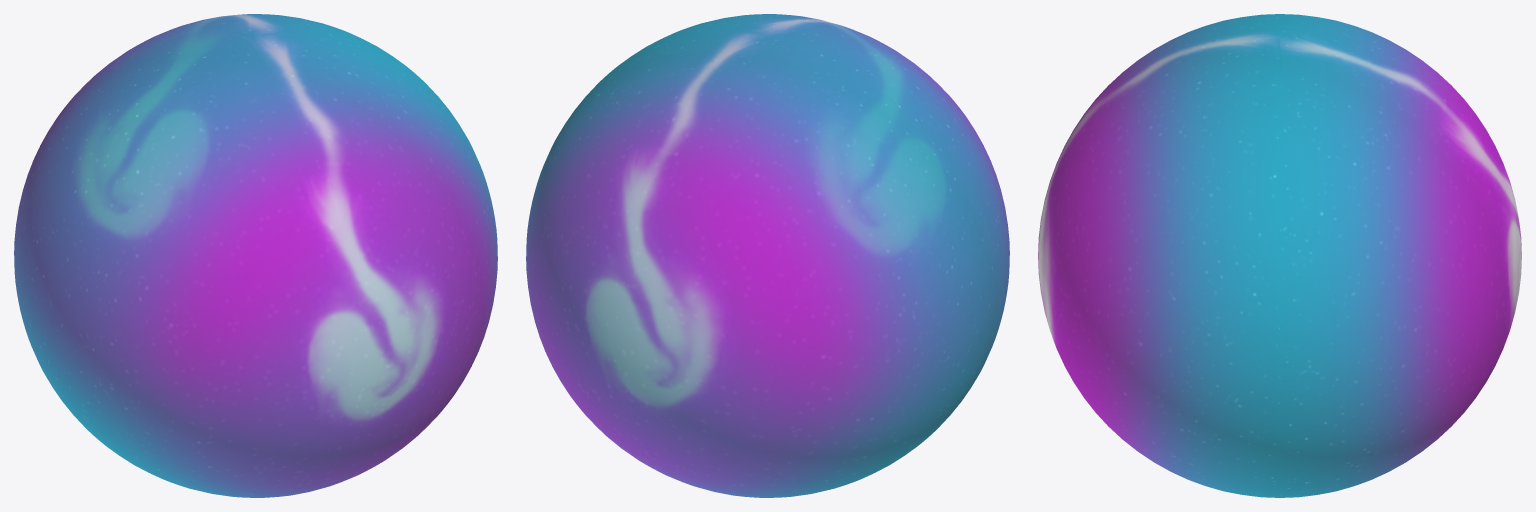
The model's file is lunaCancer.glb.
3 views of the same model, side by side, from view 1: azimuth 30°, elevation 25°; view 2: azimuth 150°, elevation 25°; view 3: azimuth 270°, elevation 25° (orthographic).
Visible parts, largest first — view 1: lunacancer; view 2: lunacancer; view 3: lunacancer.
Boxes of the visible parts, x1,y1,x2,y2 form: lunacancer: (14,14,497,497); lunacancer: (526,14,1009,497); lunacancer: (1038,14,1521,497).
Size of the model in its own units: 0.5681 by 0.5689 by 0.5678.
1 material, 1 textured.
